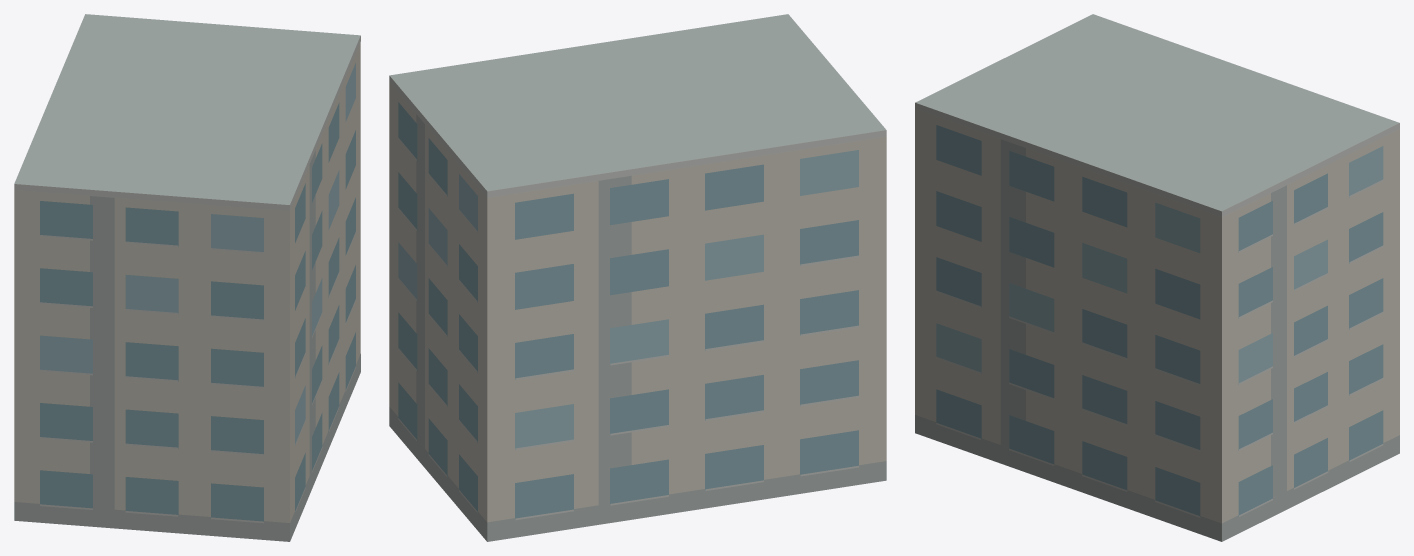
Rendered from survey-upis-32991952.glb.
The picture shows the model from 3 angles, left to right: view 1: azimuth 30°, elevation 25°; view 2: azimuth 150°, elevation 25°; view 3: azimuth 270°, elevation 25°; orthographic projection. The views are drawn at different scales.
Parts seen in each view (by area): view 1: survey-upis-32991952.tmp; view 2: survey-upis-32991952.tmp; view 3: survey-upis-32991952.tmp.
Part boxes in pixels (x1=…): survey-upis-32991952.tmp: x1=14, y1=14, x2=360, y2=541; survey-upis-32991952.tmp: x1=389, y1=14, x2=886, y2=541; survey-upis-32991952.tmp: x1=915, y1=14, x2=1399, y2=541.
Size of the model in its own units: 16.92 by 13.2 by 17.55.
